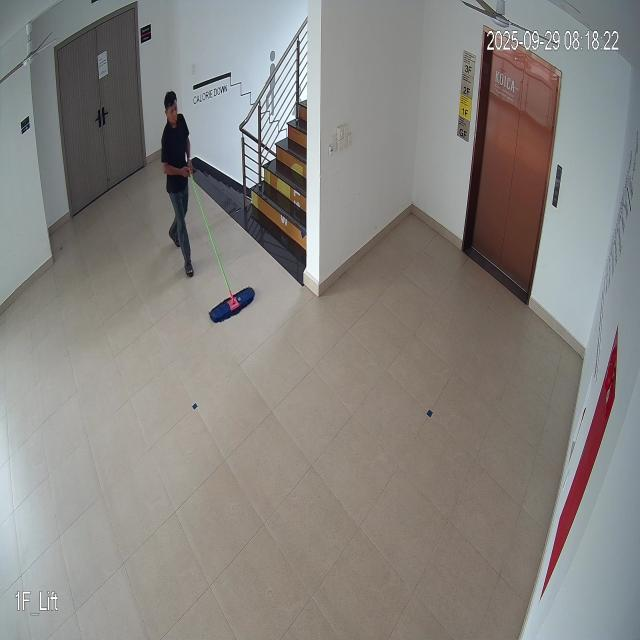face: (164, 89, 181, 128)
